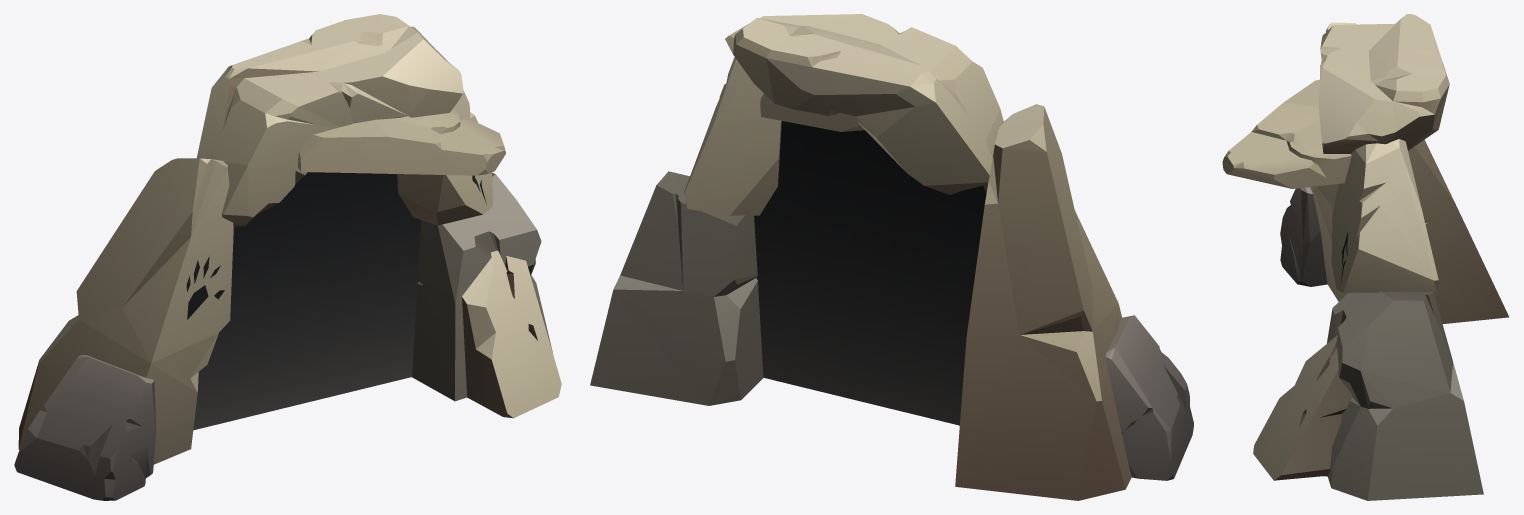
File: Cave_Entrance_2A.fbx
3 renders of one model, left to right at view 1: azimuth 30°, elevation 25°; view 2: azimuth 150°, elevation 25°; view 3: azimuth 270°, elevation 25°, orthographic. The views are drawn at different scales.
Parts seen in each view (by area): view 1: Cave_Entrance_2A; view 2: Cave_Entrance_2A; view 3: Cave_Entrance_2A.
Boxes of the visible parts, x1,y1,x2,y2 form: Cave_Entrance_2A: (14, 14, 561, 500); Cave_Entrance_2A: (590, 14, 1193, 500); Cave_Entrance_2A: (1222, 14, 1508, 500).
Bounding box in the file's own units: 4.3 × 2.72 × 2.04.
